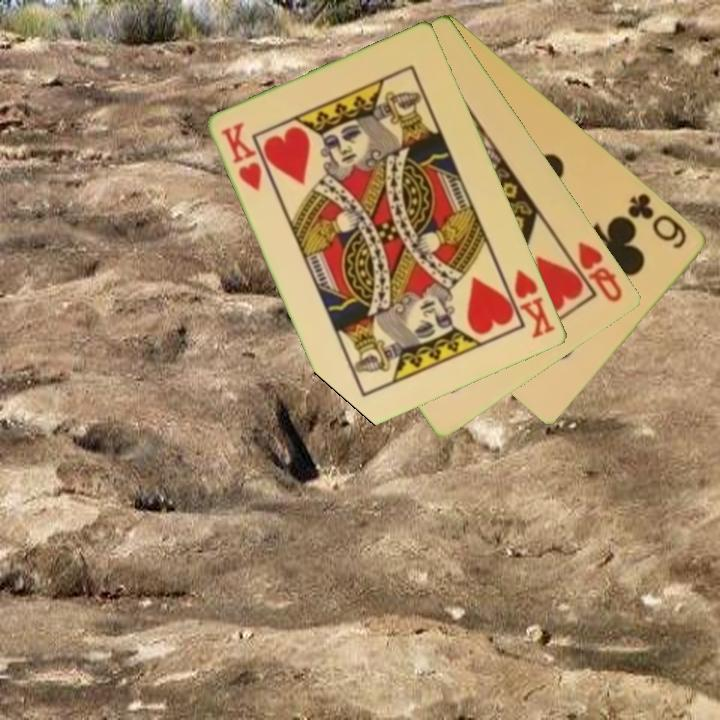6c: (624, 189, 691, 252)
Kh: (499, 266, 558, 342), (218, 118, 266, 194)
Qh: (562, 238, 626, 305)
